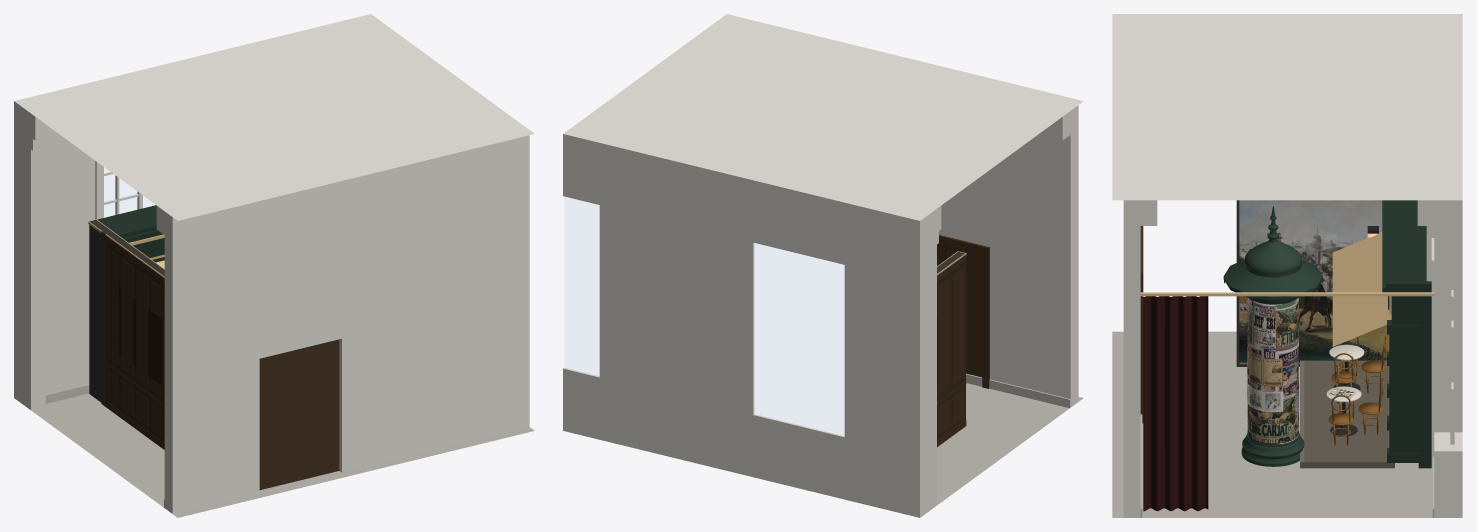
3 renders of one model, left to right at view 1: azimuth 30°, elevation 25°; view 2: azimuth 150°, elevation 25°; view 3: azimuth 270°, elevation 25°, orthographic. The views are drawn at different scales.
Parts seen in each view (by area): view 1: room; view 2: room; view 3: room.
Boxes of the visible parts, box(x1,y1,x2,y2) form: room: box(14, 14, 534, 517); room: box(563, 14, 1083, 517); room: box(1112, 14, 1462, 517).
Bounding box in the file's own units: 7.8 × 6.2 × 6.2.
Materials: 35 (8 with a texture image).
